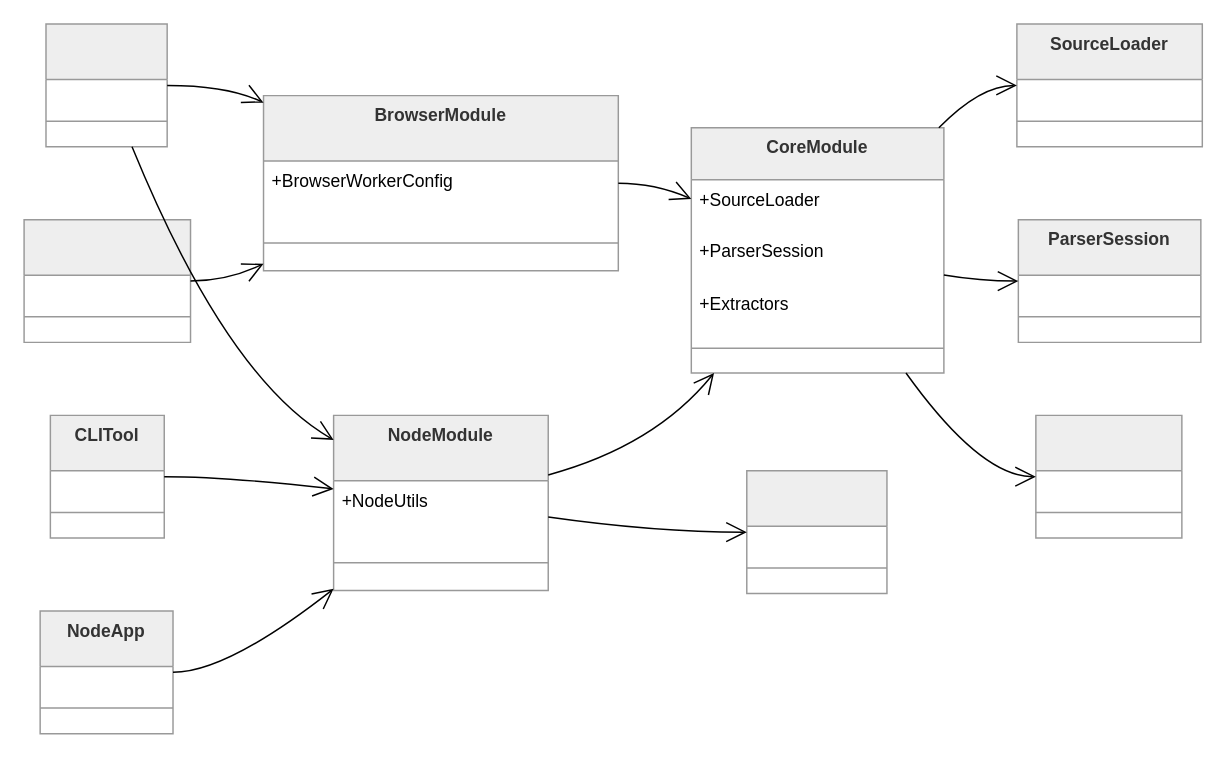
Image size: 1226x758. Some labels were removed from this diagram. Each missing label, with the centre of its shape:
"BrowserApp" belongs at pixel 107 280.
"Extractors" belongs at pixel 1108 476.
"NodeUtils" belongs at pixel 816 531.
"RESTAPI" belongs at pixel 106 85.
